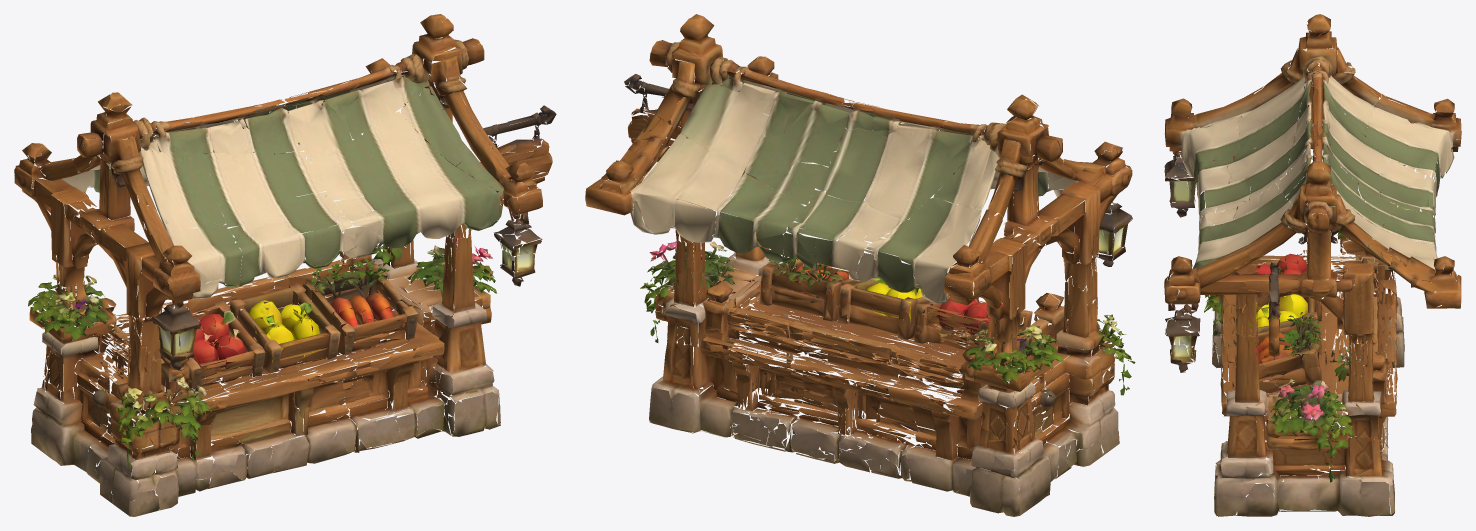
File: market-v2.glb
3 renders of one model, left to right at view 1: azimuth 30°, elevation 25°; view 2: azimuth 150°, elevation 25°; view 3: azimuth 270°, elevation 25°, orthographic. The views are drawn at different scales.
Visible parts, largest first — view 1: tripo_node_9abd3d9b-ffe7-4be6-a7dd-1f0863c8ea92; view 2: tripo_node_9abd3d9b-ffe7-4be6-a7dd-1f0863c8ea92; view 3: tripo_node_9abd3d9b-ffe7-4be6-a7dd-1f0863c8ea92.
Boxes of the visible parts, x1,y1,x2,y2 form: tripo_node_9abd3d9b-ffe7-4be6-a7dd-1f0863c8ea92: [14, 14, 556, 516]; tripo_node_9abd3d9b-ffe7-4be6-a7dd-1f0863c8ea92: [585, 14, 1135, 516]; tripo_node_9abd3d9b-ffe7-4be6-a7dd-1f0863c8ea92: [1164, 14, 1461, 516].
Bounding box in the file's own units: 3.82 × 2.9 × 2.23.
1 material, 1 textured.
